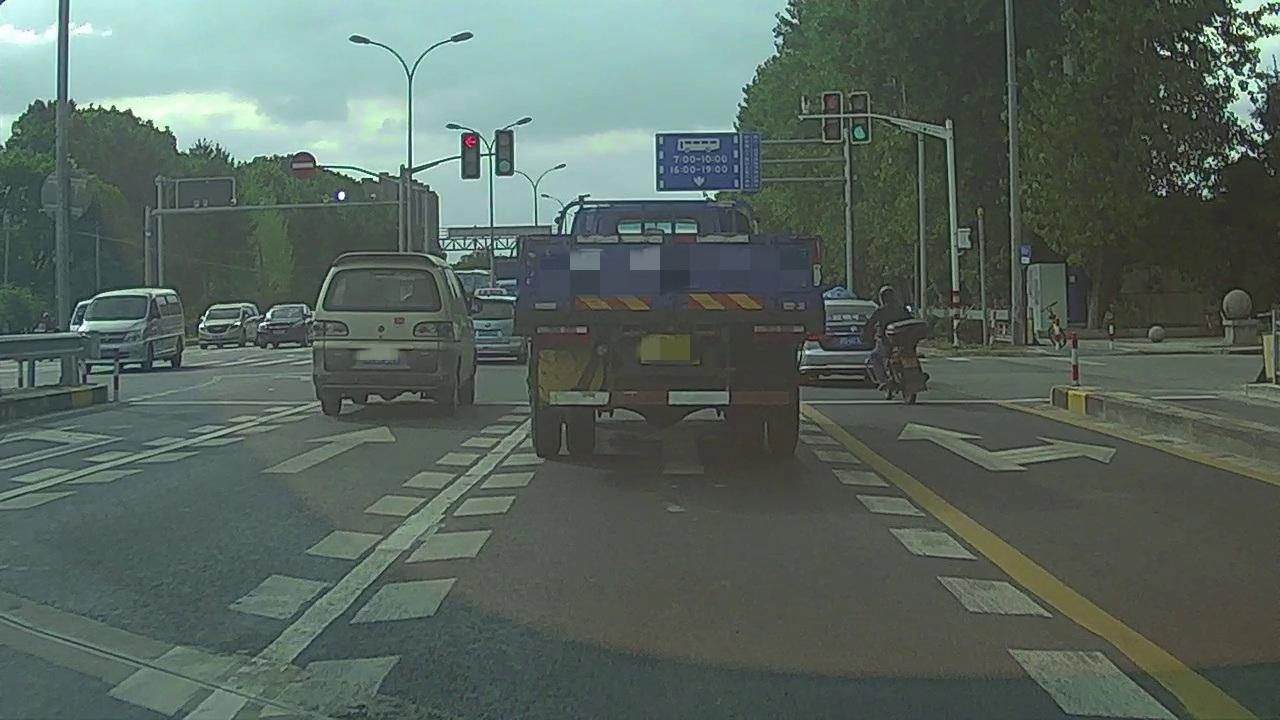traffic_light: (849, 92, 869, 142), (824, 93, 842, 141), (496, 129, 514, 177), (463, 133, 479, 178)
